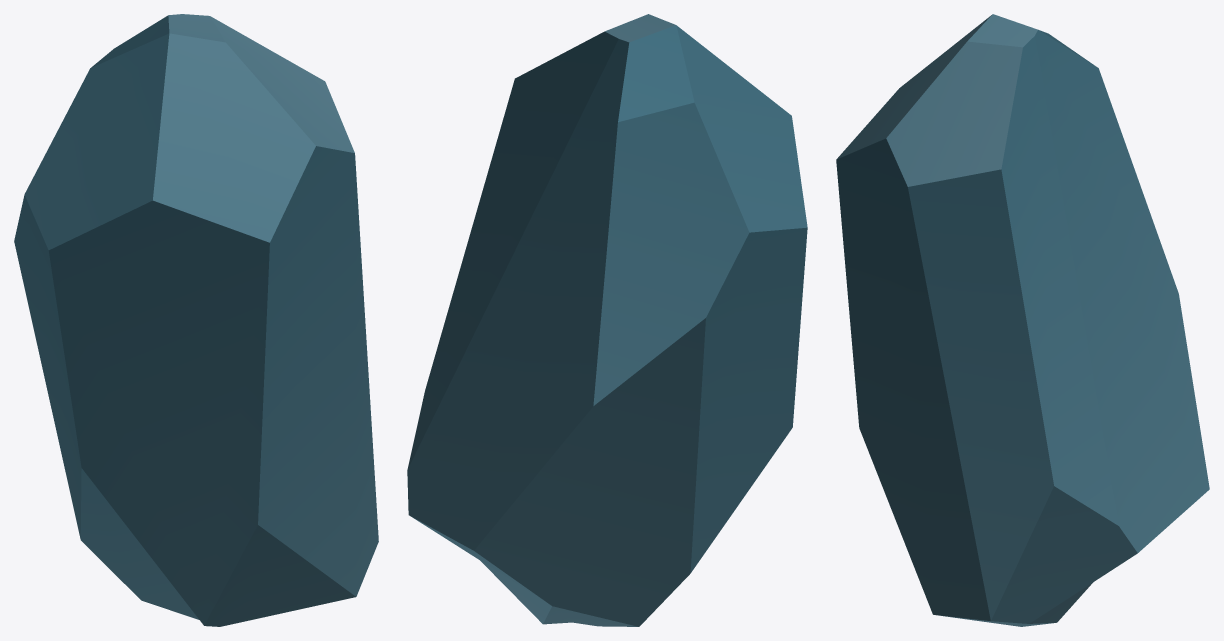
Rendered from Rock06.fbx.
3 views of the same model, side by side, from view 1: azimuth 30°, elevation 25°; view 2: azimuth 150°, elevation 25°; view 3: azimuth 270°, elevation 25° (orthographic). The views are drawn at different scales.
Visible parts, largest first — view 1: Rock06_LOD0; view 2: Rock06_LOD0; view 3: Rock06_LOD0.
Part boxes in pixels (left/top/right/bottom): Rock06_LOD0: left=14, top=14, right=378, bottom=626; Rock06_LOD0: left=407, top=14, right=807, bottom=626; Rock06_LOD0: left=836, top=14, right=1209, bottom=626.
Bounding box in the file's own units: 127 × 216 × 128.
